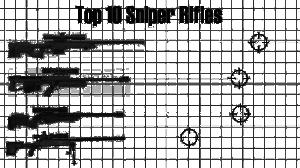sniper: (6, 129, 126, 162), (9, 34, 147, 61), (8, 67, 132, 95), (6, 105, 124, 128)
